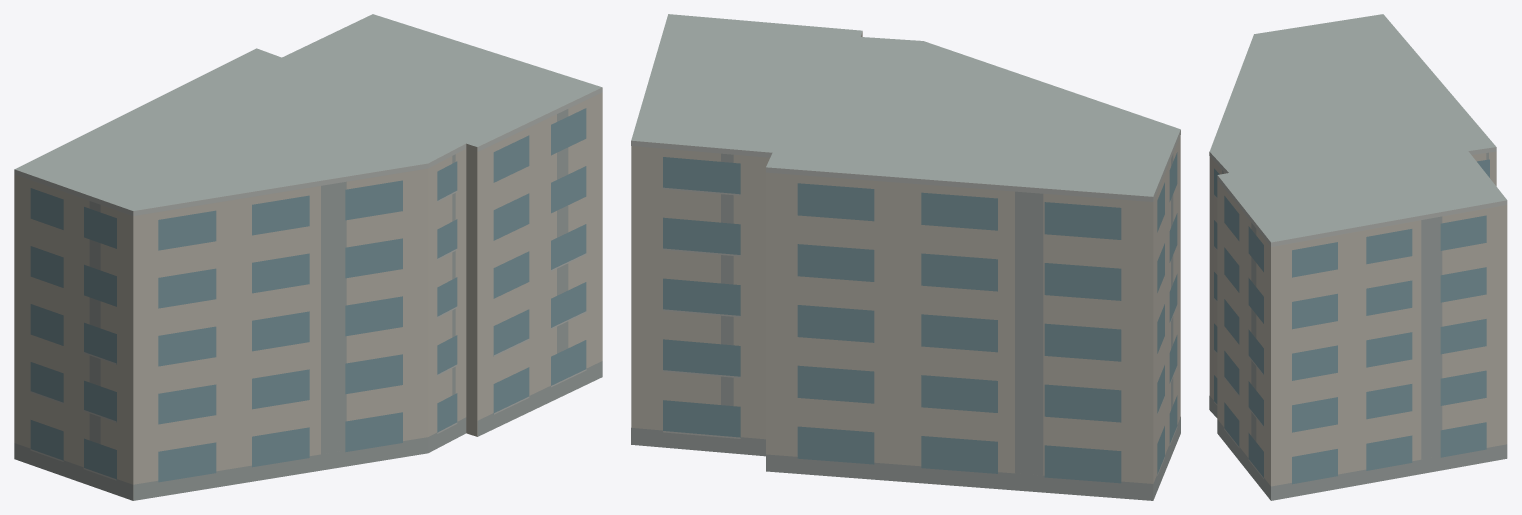
The model's file is survey-upis-32811421.glb.
The picture shows the model from 3 angles, left to right: view 1: azimuth 30°, elevation 25°; view 2: azimuth 150°, elevation 25°; view 3: azimuth 270°, elevation 25°; orthographic projection. The views are drawn at different scales.
Parts seen in each view (by area): view 1: survey-upis-32811421.tmp; view 2: survey-upis-32811421.tmp; view 3: survey-upis-32811421.tmp.
Boxes of the visible parts, x1=… form: survey-upis-32811421.tmp: x1=14, y1=14, x2=602, y2=500; survey-upis-32811421.tmp: x1=631, y1=14, x2=1180, y2=500; survey-upis-32811421.tmp: x1=1209, y1=14, x2=1507, y2=500.
Size of the model in its own units: 26.56 by 14 by 14.64.
